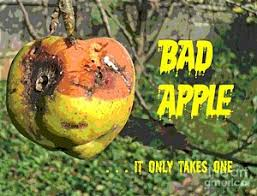damaged_apple: (9, 42, 134, 155)
